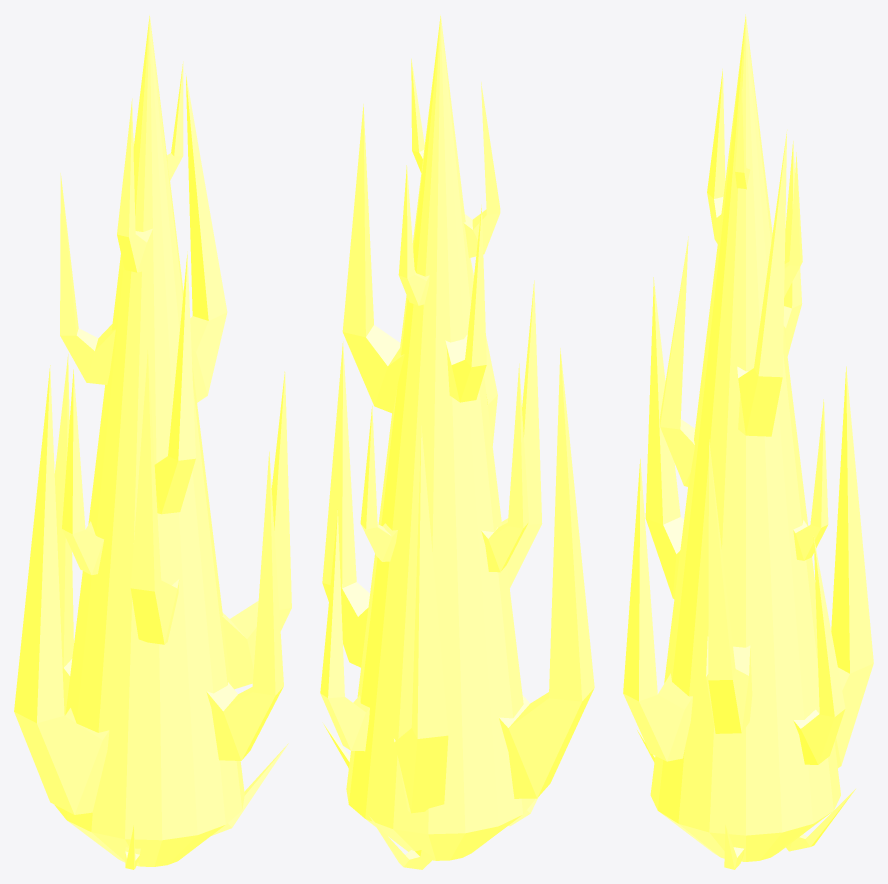
The model's file is Thorn (1).fbx.
The picture shows the model from 3 angles, left to right: view 1: azimuth 30°, elevation 25°; view 2: azimuth 150°, elevation 25°; view 3: azimuth 270°, elevation 25°; orthographic projection.
Visible parts, largest first — view 1: Cone; view 2: Cone; view 3: Cone.
Boxes of the visible parts, x1,y1,x2,y2 form: Cone: (14,15,291,869); Cone: (320,15,594,869); Cone: (623,14,873,869).
Bounding box in the file's own units: 45.04 × 135 × 36.64.
